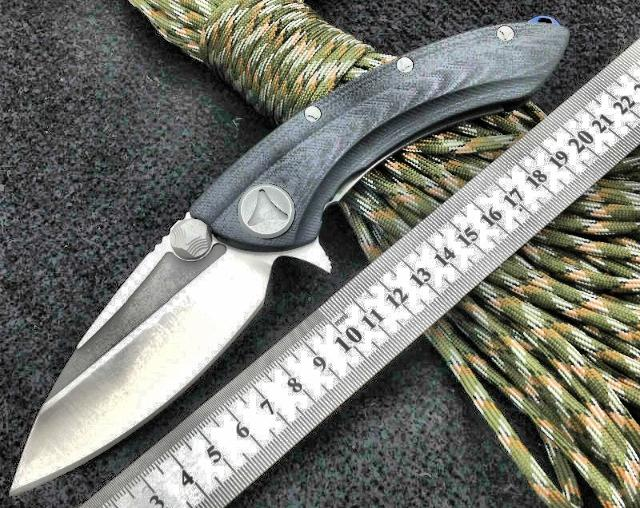knife: (0, 182, 278, 508)
